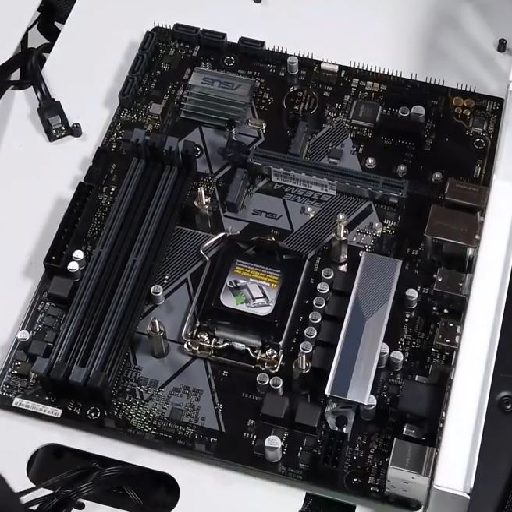CPU: (179, 232, 313, 372)
GPU: (220, 139, 410, 206)
MOTHERBOARD: (1, 32, 504, 503)
RAM: (34, 127, 199, 404)
SSD: (226, 168, 248, 210), (287, 122, 310, 155)
